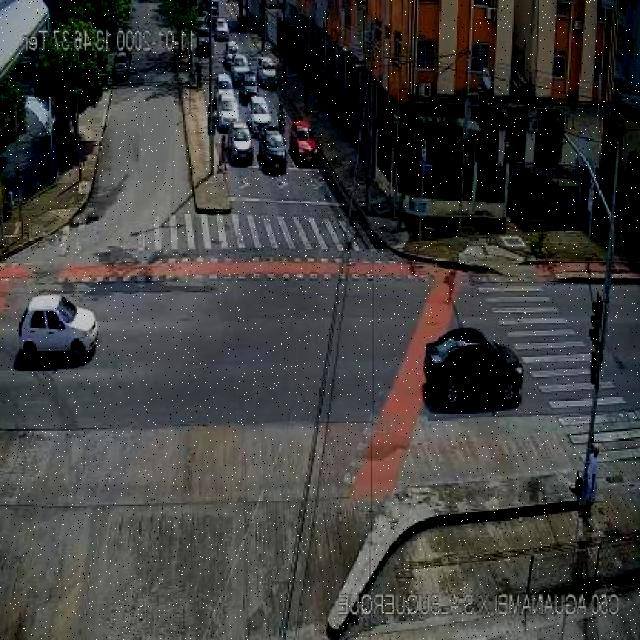Car: (422, 328, 523, 401), (15, 295, 99, 359), (289, 118, 319, 164), (258, 128, 288, 172), (227, 124, 254, 164), (247, 97, 273, 135), (218, 97, 240, 132), (257, 56, 278, 89), (237, 69, 259, 100), (113, 52, 131, 80), (230, 54, 250, 78), (217, 86, 236, 110), (217, 73, 235, 96), (224, 40, 239, 64), (214, 18, 229, 41), (197, 24, 210, 38), (256, 53, 267, 68)
